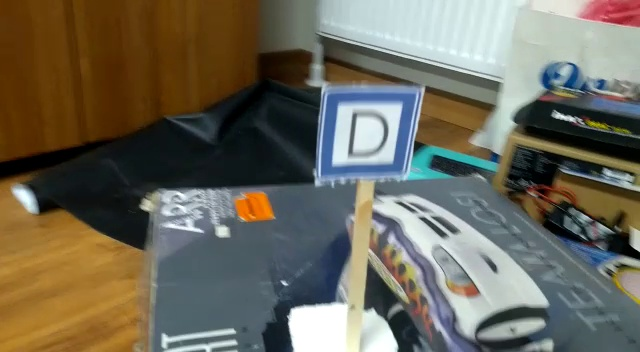durak: (323, 83, 404, 181)
